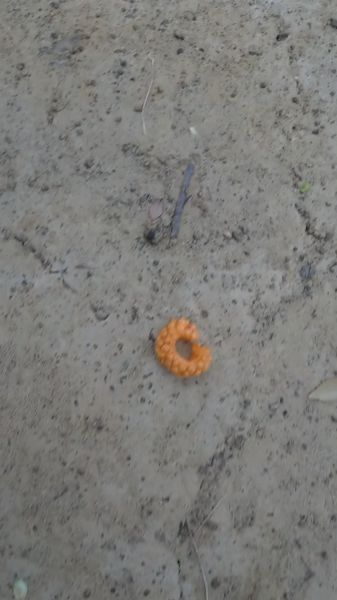eggs: (148, 315, 212, 386)
